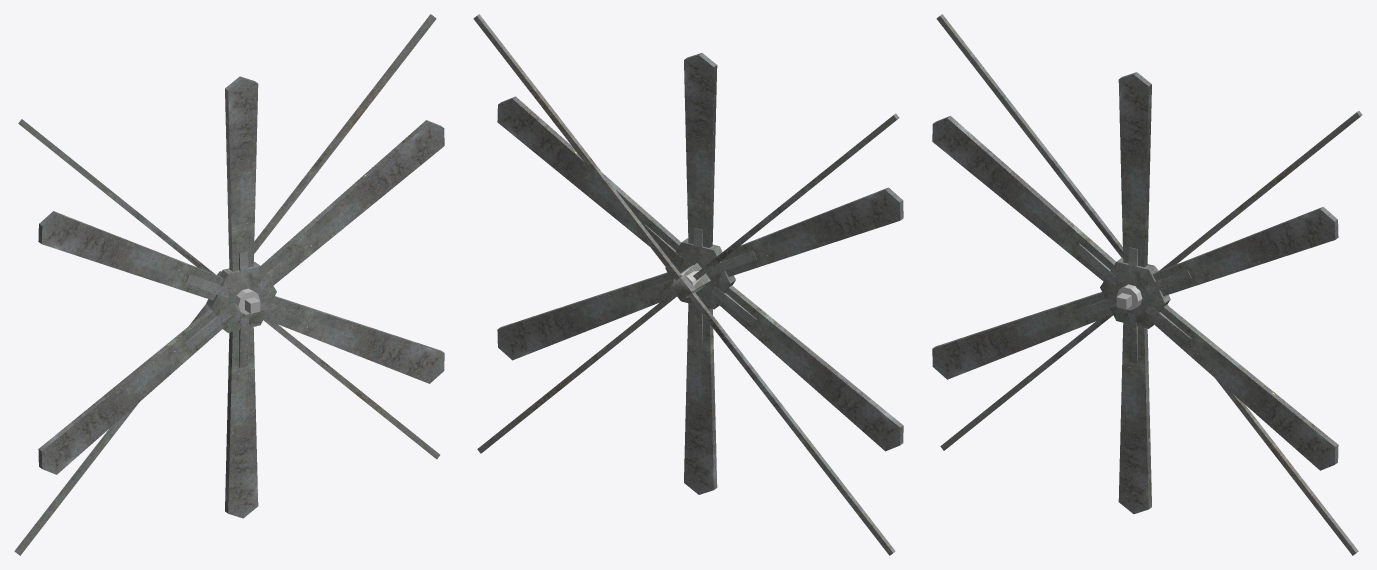
File: other_fan01.dae
The picture shows the model from 3 angles, left to right: view 1: azimuth 30°, elevation 25°; view 2: azimuth 150°, elevation 25°; view 3: azimuth 330°, elevation 25°; orthographic projection.
Parts seen in each view (by area): view 1: fan, solid; view 2: fan, solid; view 3: fan, solid.
Boxes of the visible parts, <box> form: fan: <box>38,76,444,518</box>; solid: <box>14,14,440,555</box>; fan: <box>497,53,903,494</box>; solid: <box>473,14,899,555</box>; fan: <box>932,72,1338,513</box>; solid: <box>936,14,1362,555</box>.
Size of what is drawn, in the model's own units: 1.72 by 1.72 by 0.2609.
